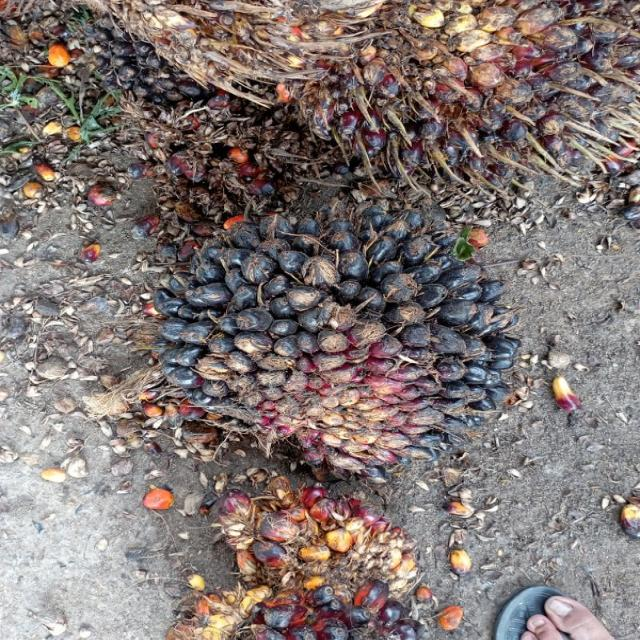fraksi 00: (151, 190, 513, 474)
